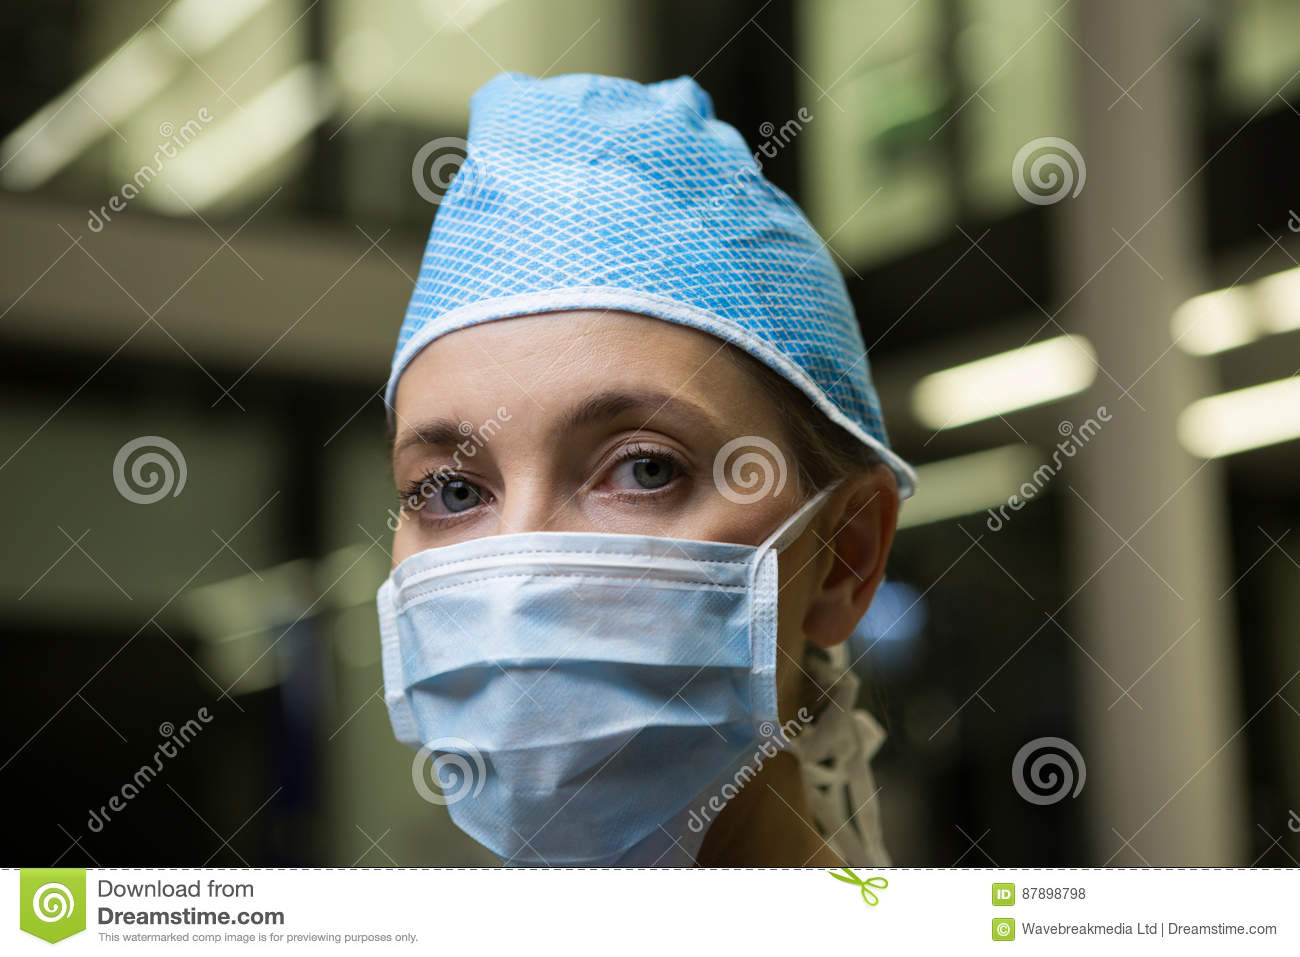mask: (366, 542, 808, 838)
